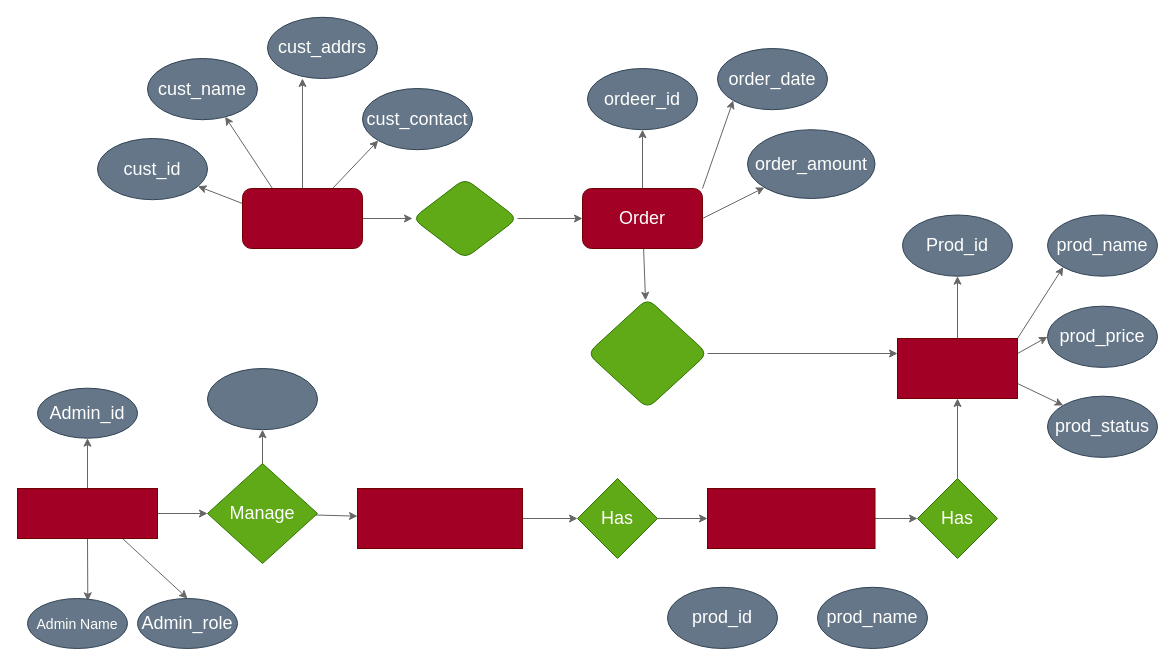
Some shapes in this 1175 by 667 pixel diagram are drawn without their labels. Each missing label, with the centre of its shape:
ADMIN: [87,513]
Containes: [647,353]
Customer: [302,218]
Make: [465,218]
Product: [957,368]
Product Category: [790,518]
Shopping Portal Website: [439,518]
Website_url: [262,399]
